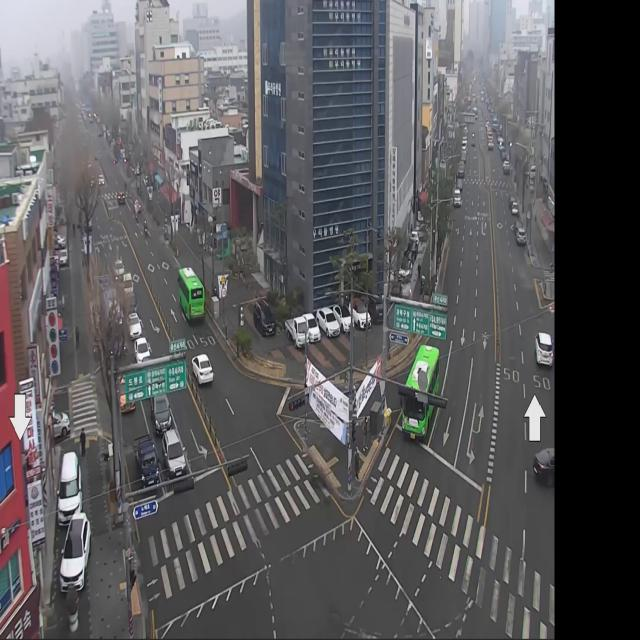bus: (141, 216, 150, 243)
car: (175, 261, 206, 330)
motorcycle: (403, 342, 438, 458), (150, 378, 175, 438), (162, 423, 186, 484), (529, 436, 553, 492), (54, 387, 74, 441), (534, 330, 558, 374), (194, 352, 216, 392), (120, 372, 138, 418), (514, 218, 530, 263), (136, 329, 152, 368), (122, 308, 142, 338), (121, 277, 137, 312), (111, 258, 127, 282), (456, 173, 466, 200), (116, 189, 128, 211), (96, 170, 105, 197), (452, 180, 460, 209), (504, 154, 513, 179), (133, 202, 143, 222), (485, 134, 494, 154), (511, 196, 518, 219)
truck: (125, 440, 163, 490)
